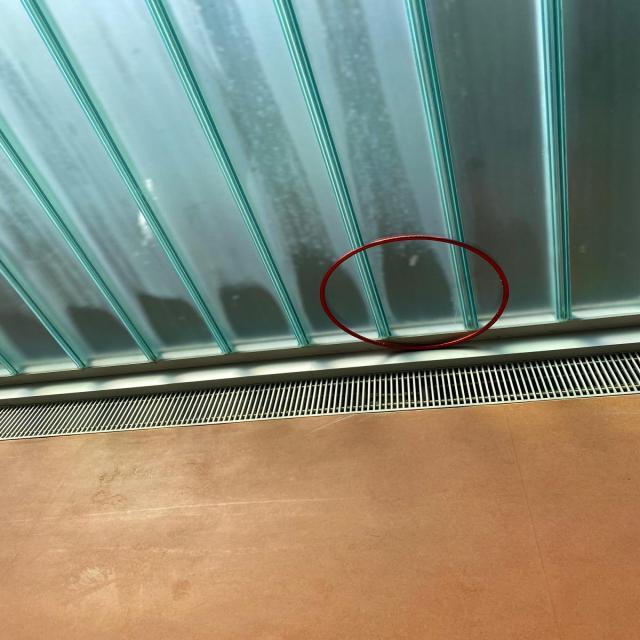Circle: (316, 231, 514, 352)
